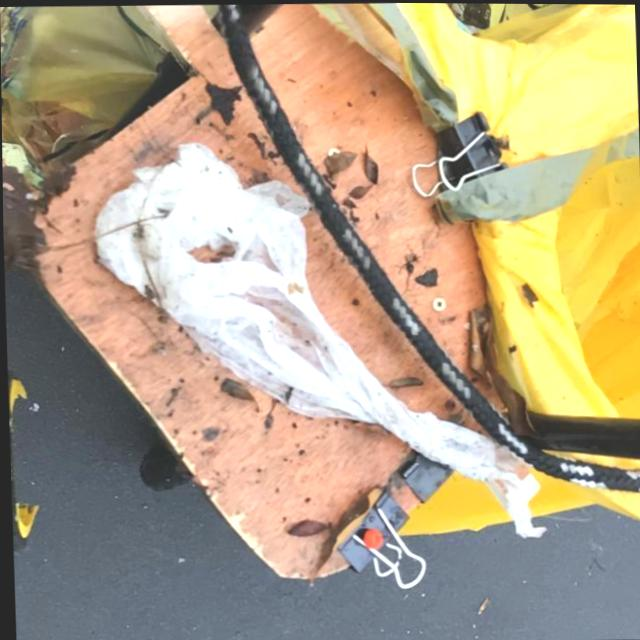Paper: (87, 132, 546, 546)
